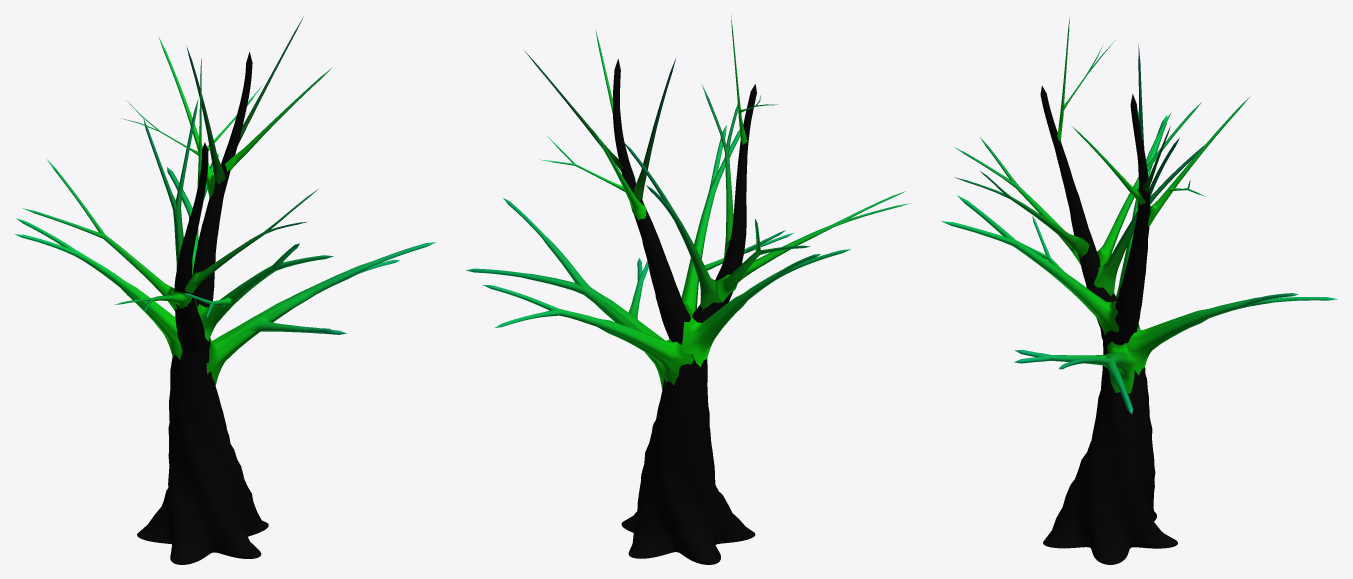
The model's file is MassiveTree.fbx.
The picture shows the model from 3 angles, left to right: view 1: azimuth 30°, elevation 25°; view 2: azimuth 150°, elevation 25°; view 3: azimuth 270°, elevation 25°; orthographic projection.
Visible parts, largest first — view 1: _0.001; view 2: _0.001; view 3: _0.001.
Part boxes in pixels (x1,y1,x2,y2): _0.001: (15,17,435,564); _0.001: (466,15,909,564); _0.001: (941,14,1337,564).
Bounding box in the file's own units: 79.35 × 71.01 × 100.
